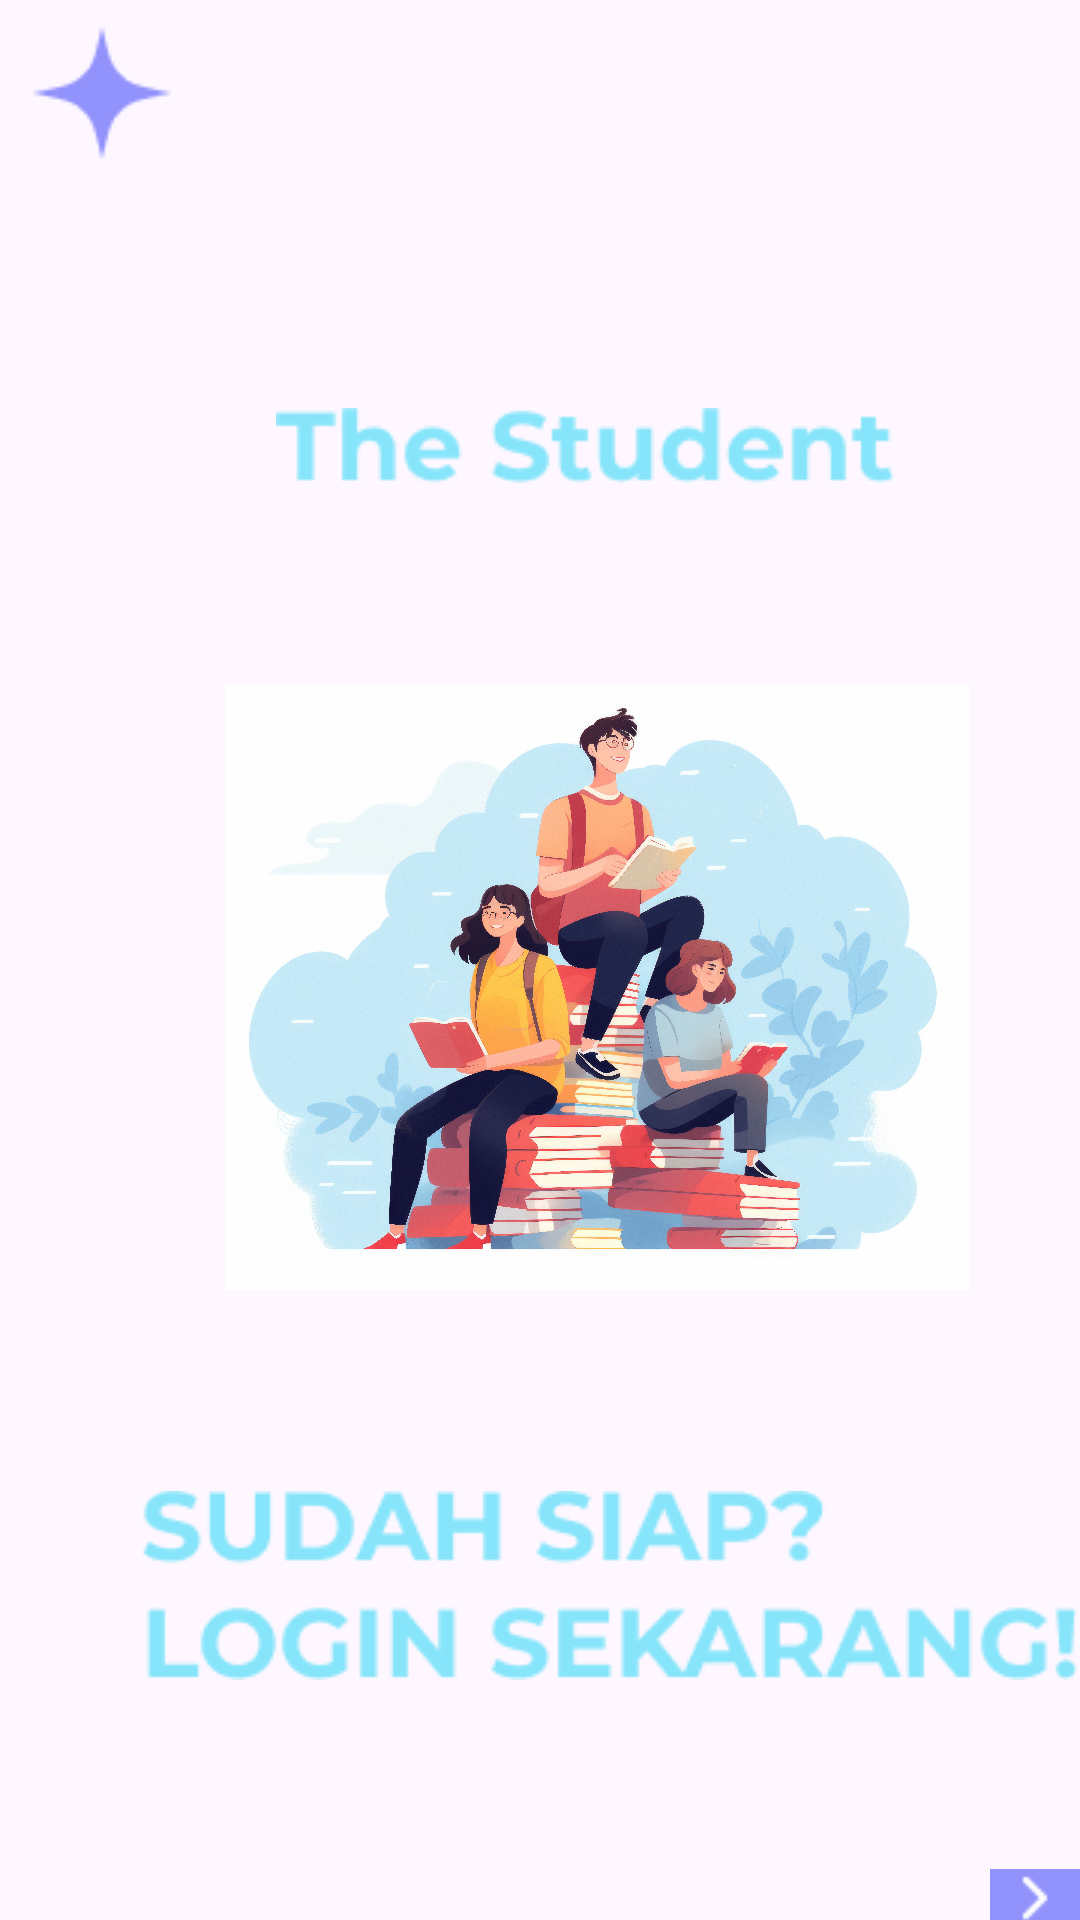

Icon bounding boxes for this 1080×1920 phone screenshot, format (x1, y1, x2, y2):
buttonnext: (990, 1869, 1080, 1920)
imagestar: (36, 30, 168, 156)
